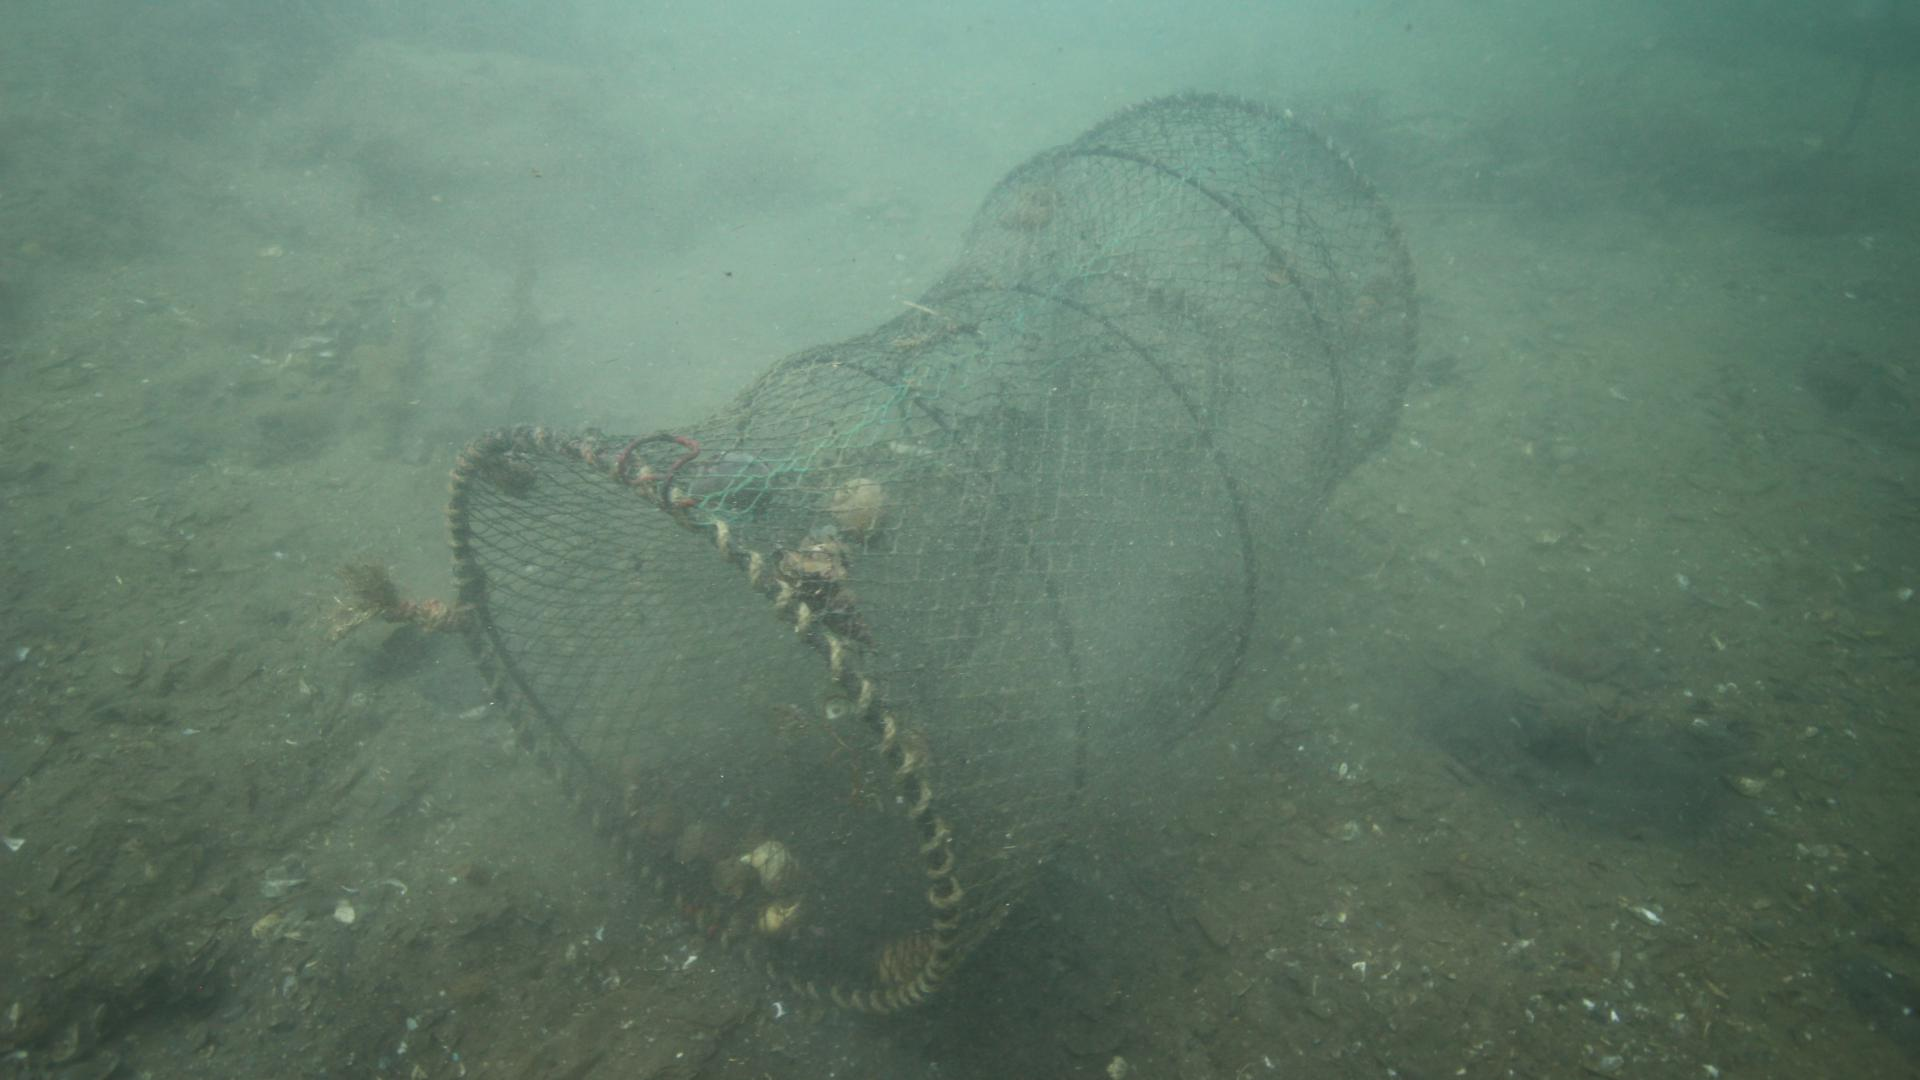spring fish trap: (440, 87, 1418, 1015)
